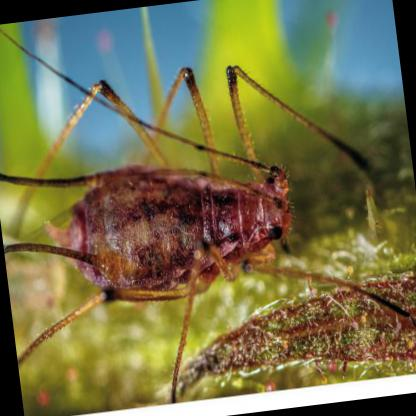uroleucon compositae: (0, 65, 353, 303)
